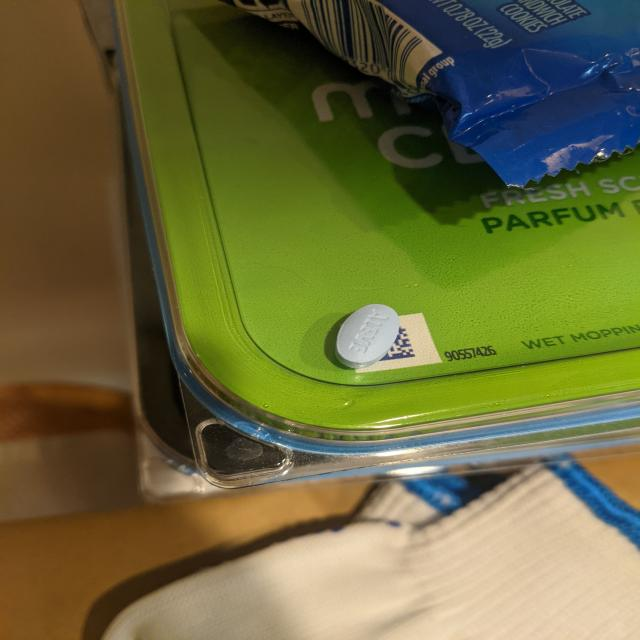non-organic waste: (334, 302, 402, 370)
